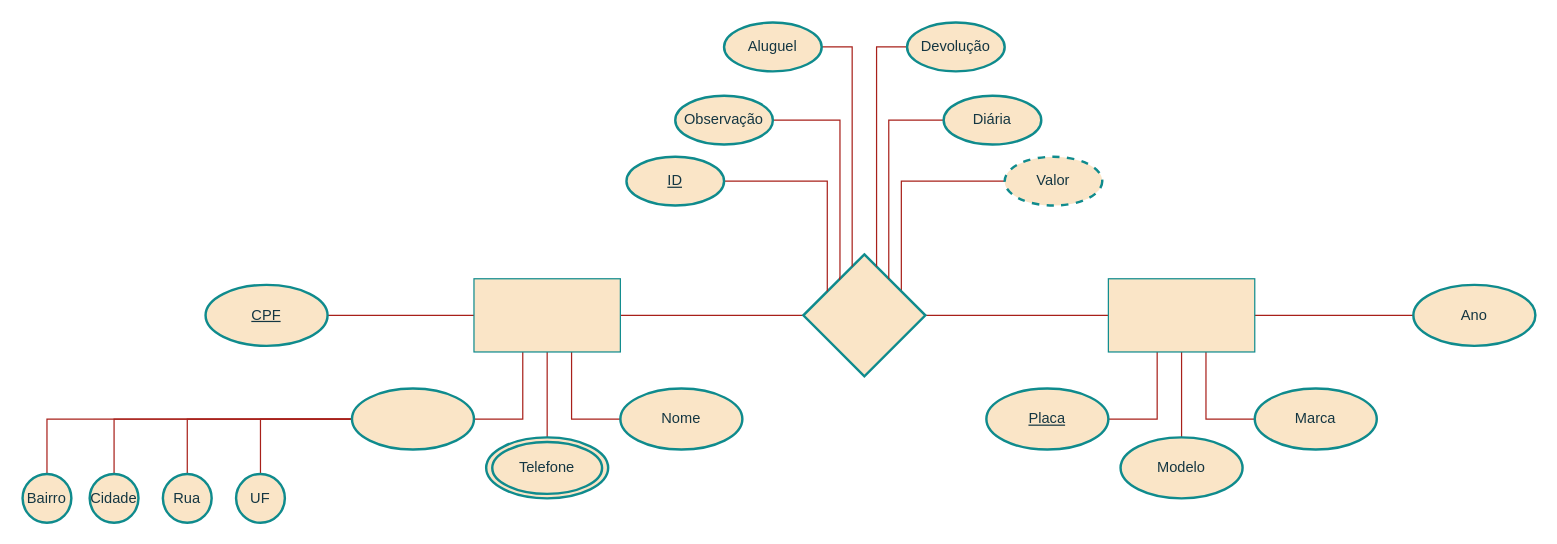
This 1557x544 diagram has some shape labels left out. Here are the shapes that lost their labels. From the top down, the centre of each, then its label:
At (x=546, y=315): "Cliente".
At (x=864, y=315): "Aluga".
At (x=1181, y=315): "Veículo".
At (x=412, y=418): "Endereço".
